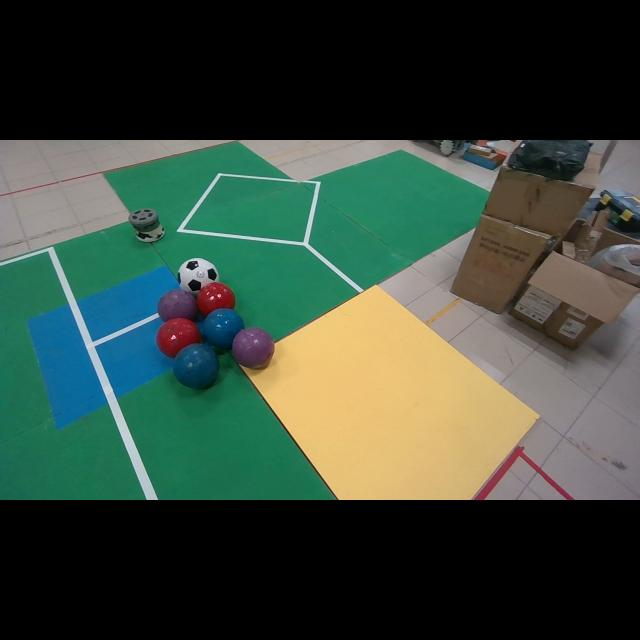B: (174, 344, 220, 389), (202, 309, 245, 348)
P: (232, 329, 274, 369), (158, 289, 198, 321)
R: (156, 319, 201, 358), (199, 282, 235, 316)
